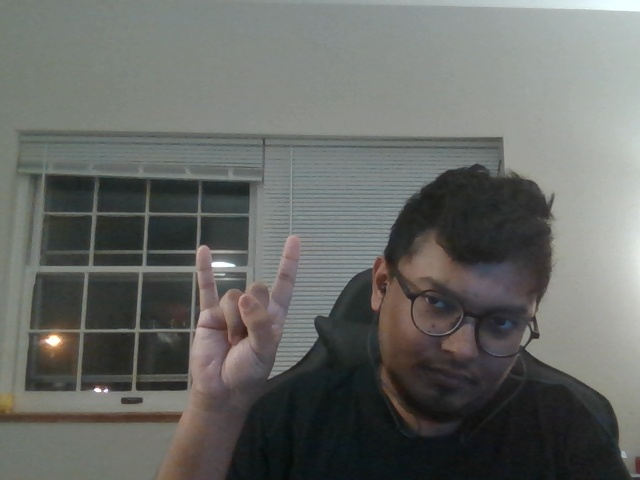ilikeyou: (171, 224, 312, 412)
